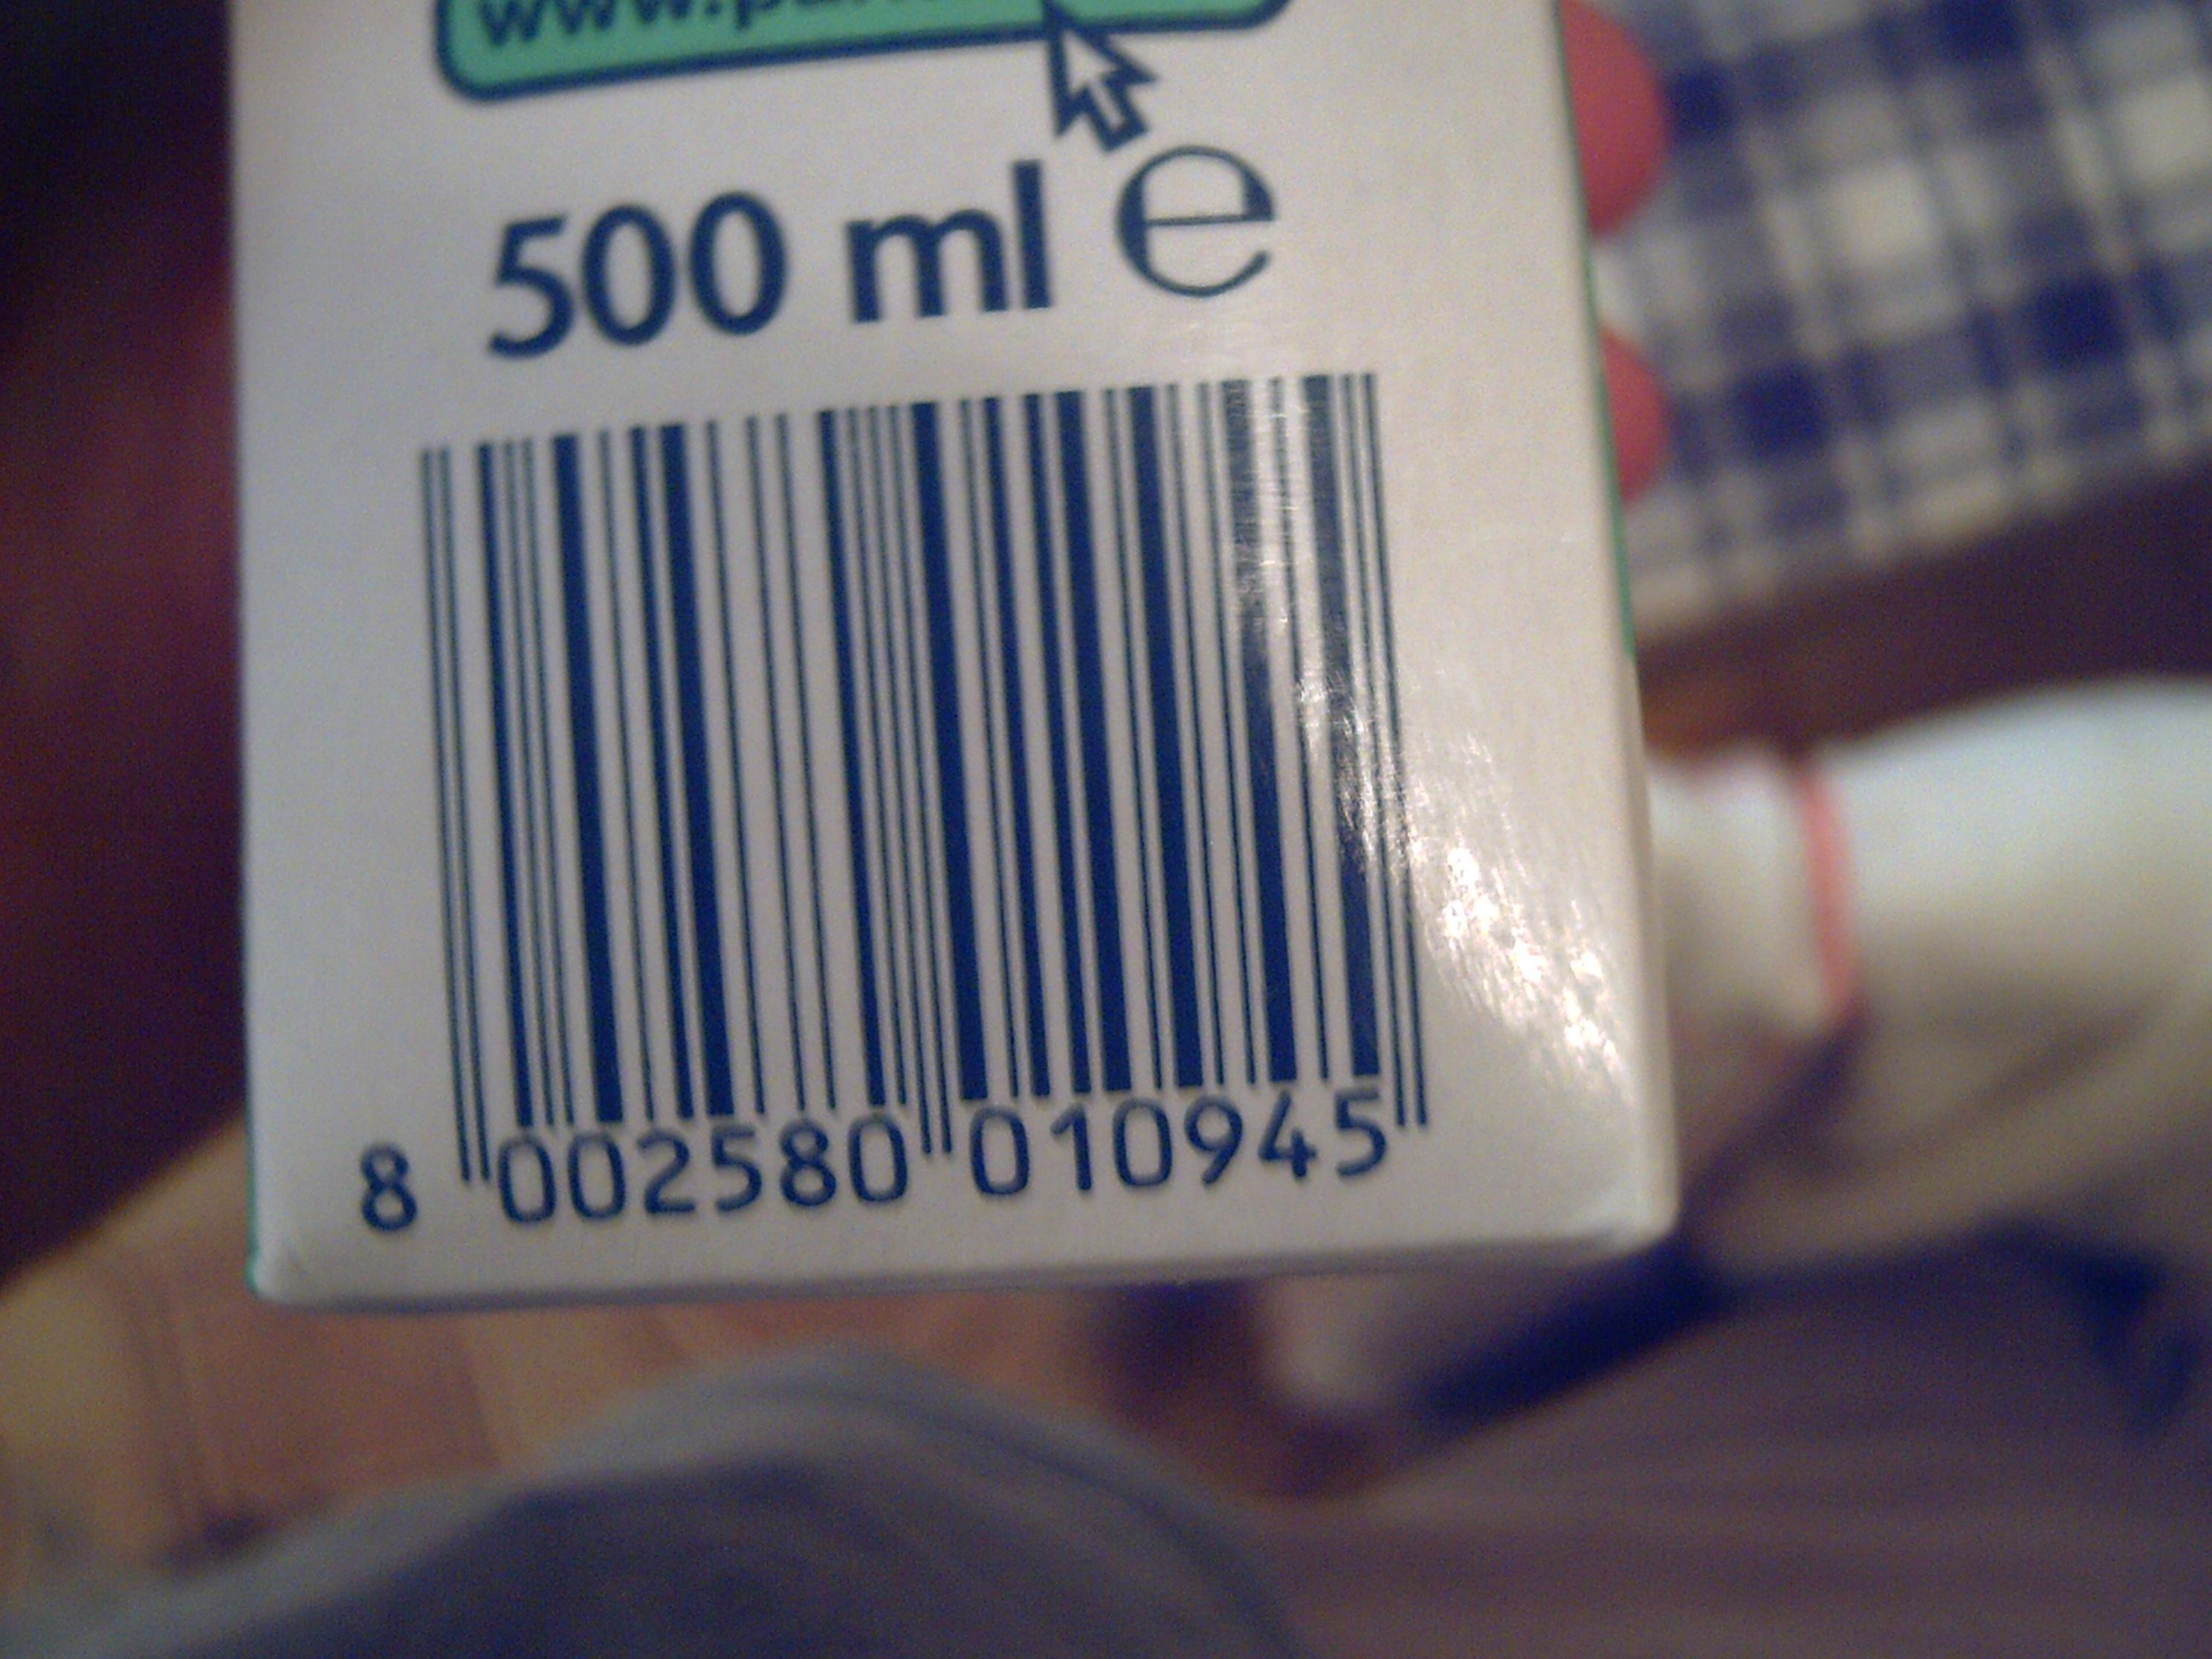barcode: (256, 361, 1679, 1286)
